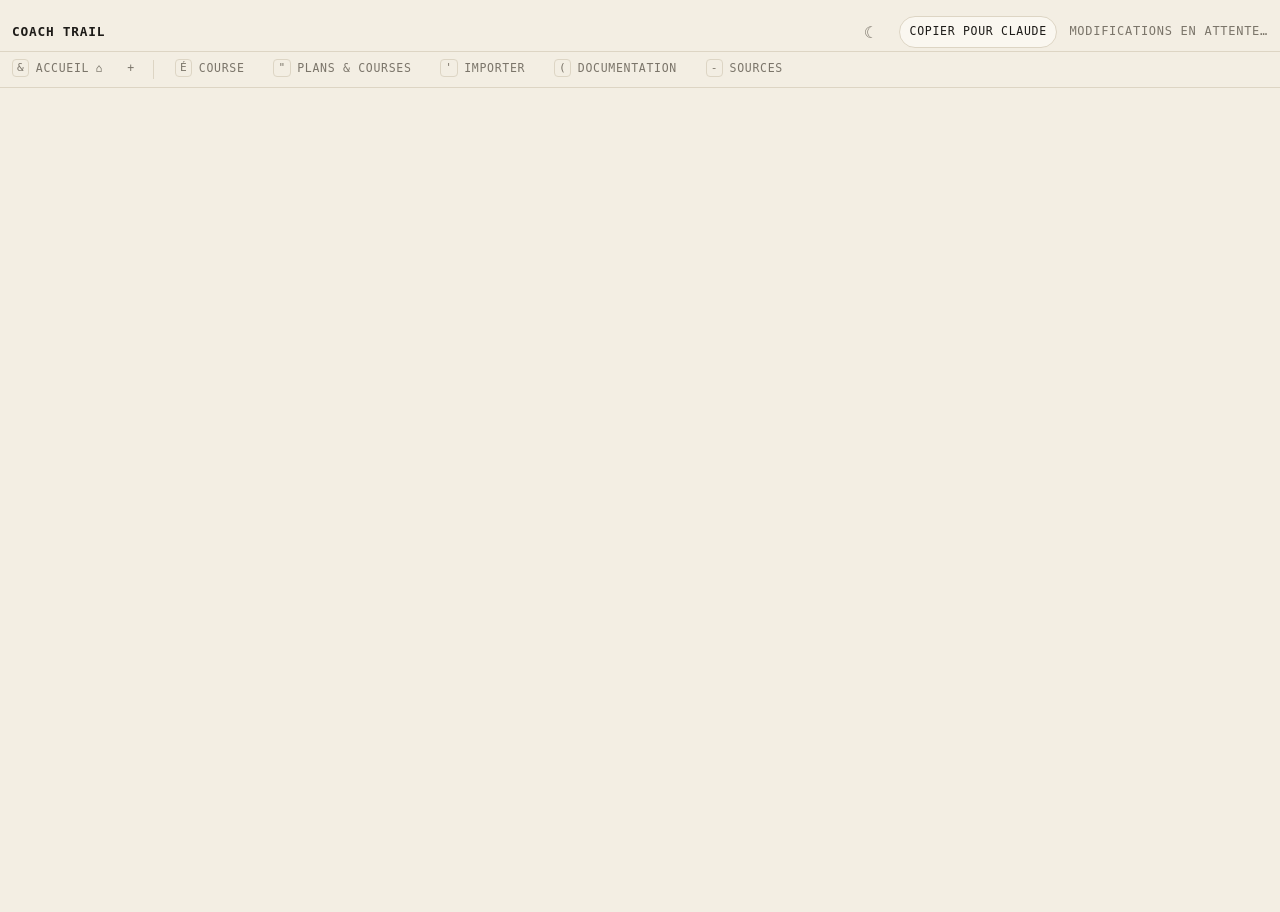
Scenario: Menu ⋯ d'une page › s'affiche hors de la barre d'onglets (non rogné) et supprime la page
Click the button named "Nouvelle page" at (131, 70), box left=115, top=52, right=147, bottom=87
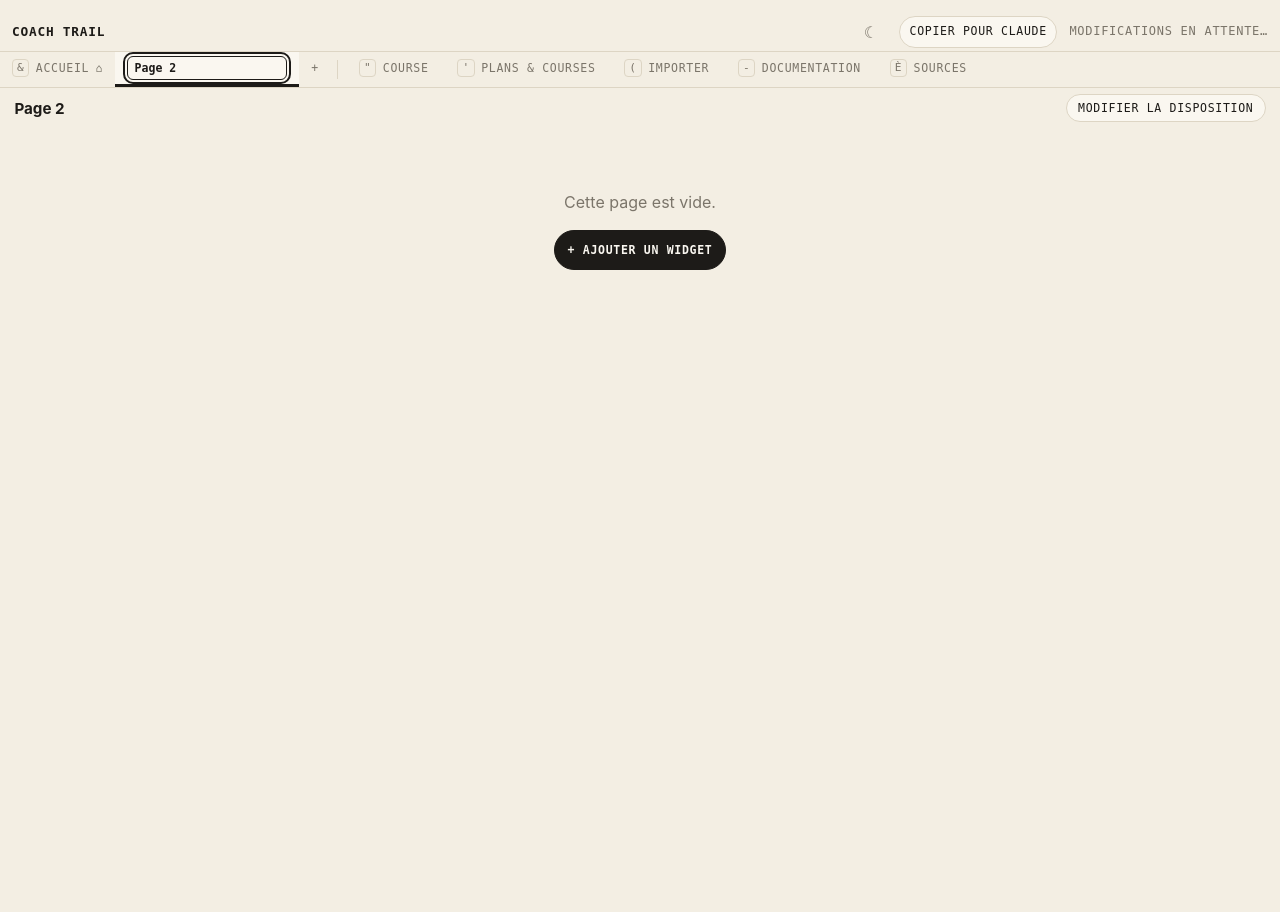
Press Enter
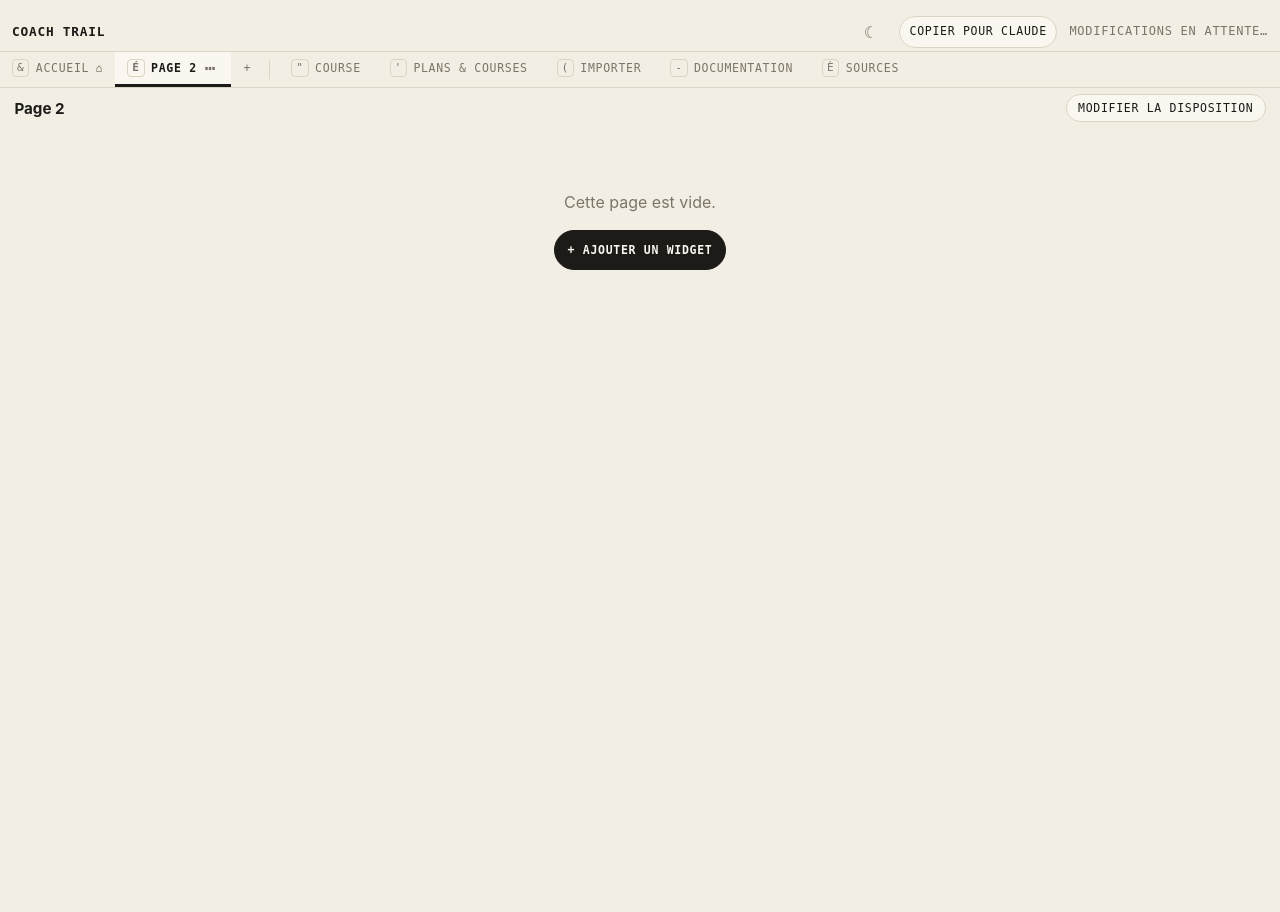
Expected: the number of tabs is 2, left=12, top=59, right=103, bottom=77; left=127, top=59, right=197, bottom=77
Click the button named "Actions de la page" at (210, 68), box left=201, top=56, right=219, bottom=80
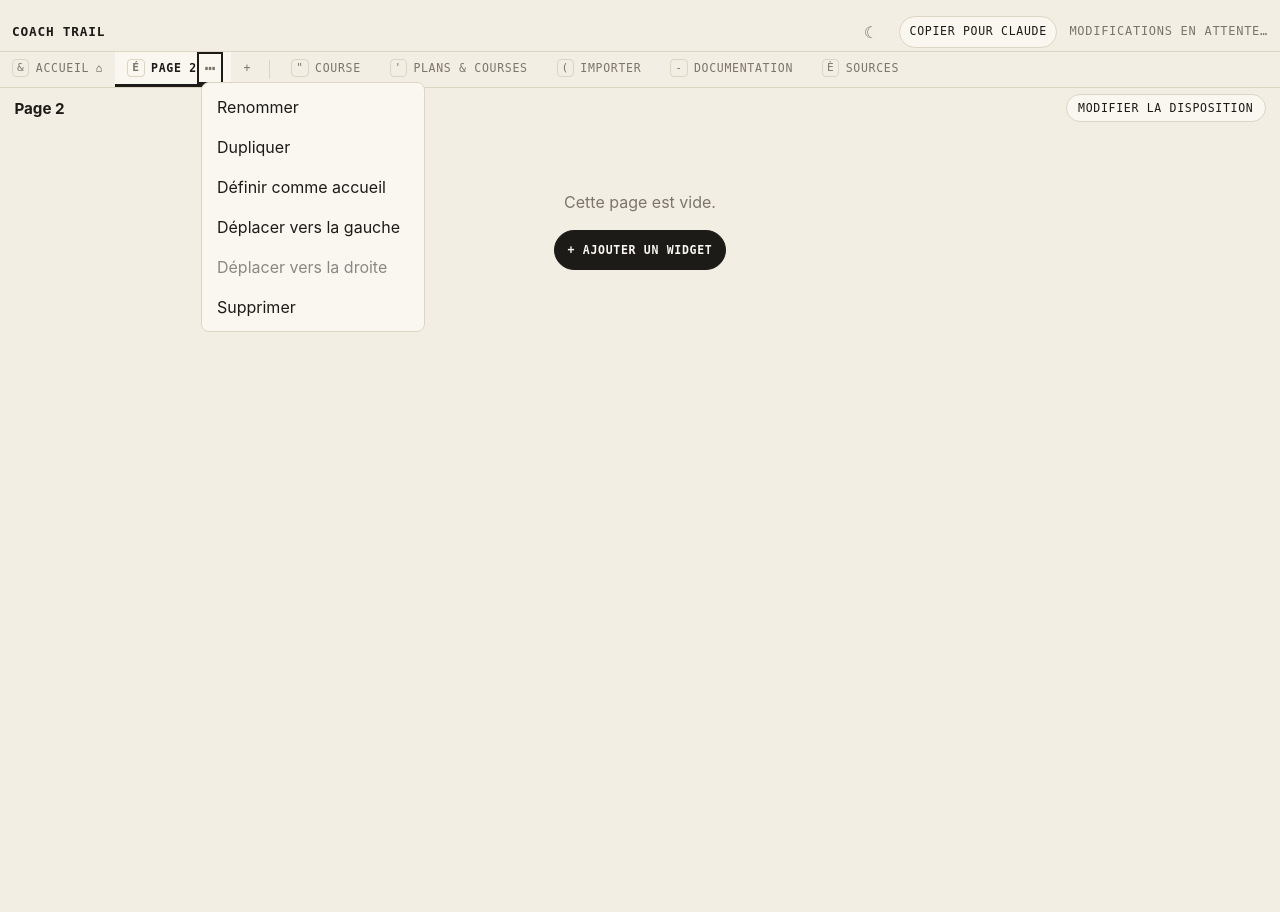
Expected: the menu item "Renommer" is shown, left=206, top=87, right=420, bottom=127
Click the menu item "Supprimer" at (313, 307), box left=206, top=287, right=420, bottom=327
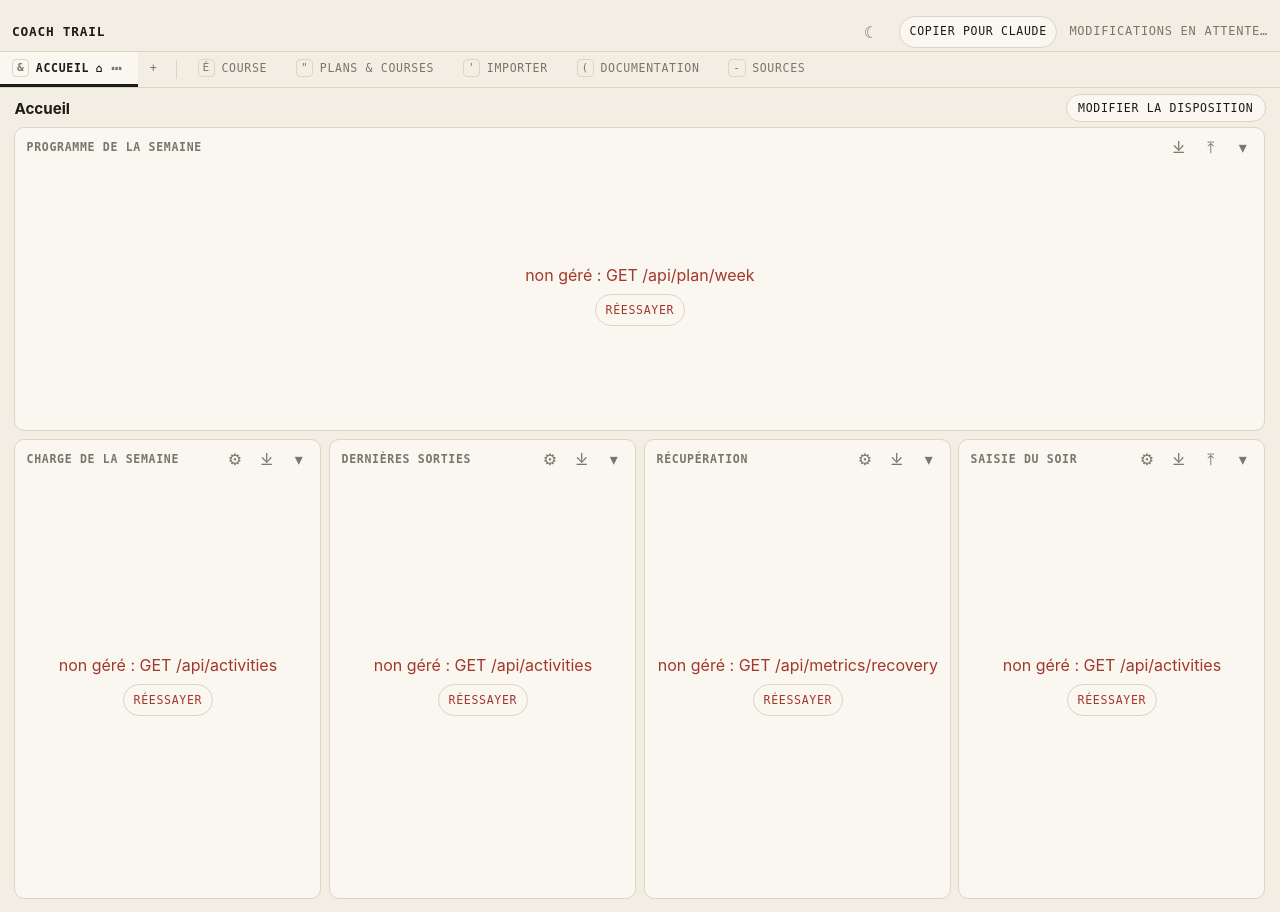
Expected: the number of tabs is 1, left=12, top=59, right=103, bottom=77
Expected: the menu is gone
